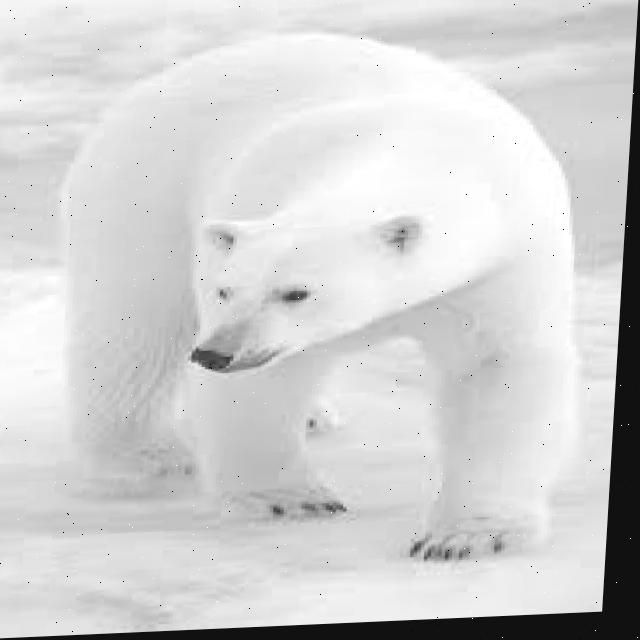Bear: (28, 19, 625, 578)
